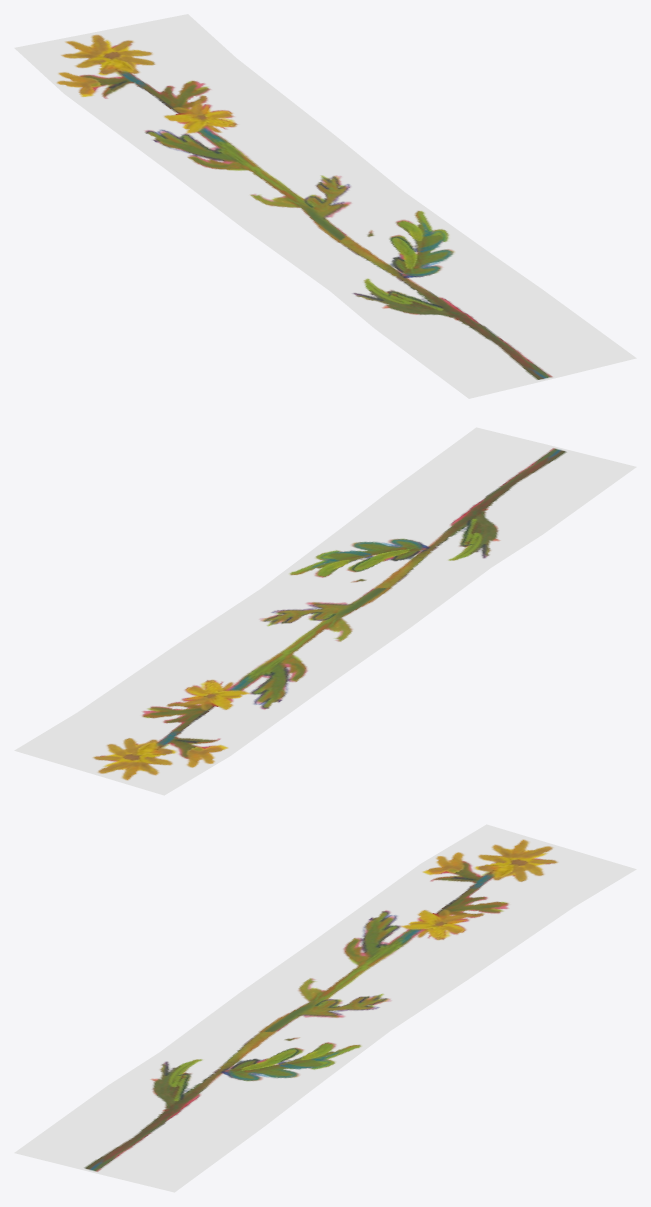
The picture shows the model from 3 angles, top to bottom: view 1: azimuth 30°, elevation 25°; view 2: azimuth 150°, elevation 25°; view 3: azimuth 330°, elevation 25°; orthographic projection. The views are drawn at different scales.
Parts seen in each view (by area): view 1: Plane_vat; view 2: Plane_vat; view 3: Plane_vat.
Part boxes in pixels (x1,y1,x2,y2): Plane_vat: (14, 14, 636, 398); Plane_vat: (14, 427, 636, 795); Plane_vat: (14, 824, 636, 1192).
Bounding box in the file's own units: 54.03 × 3.99e-05 × 241.
